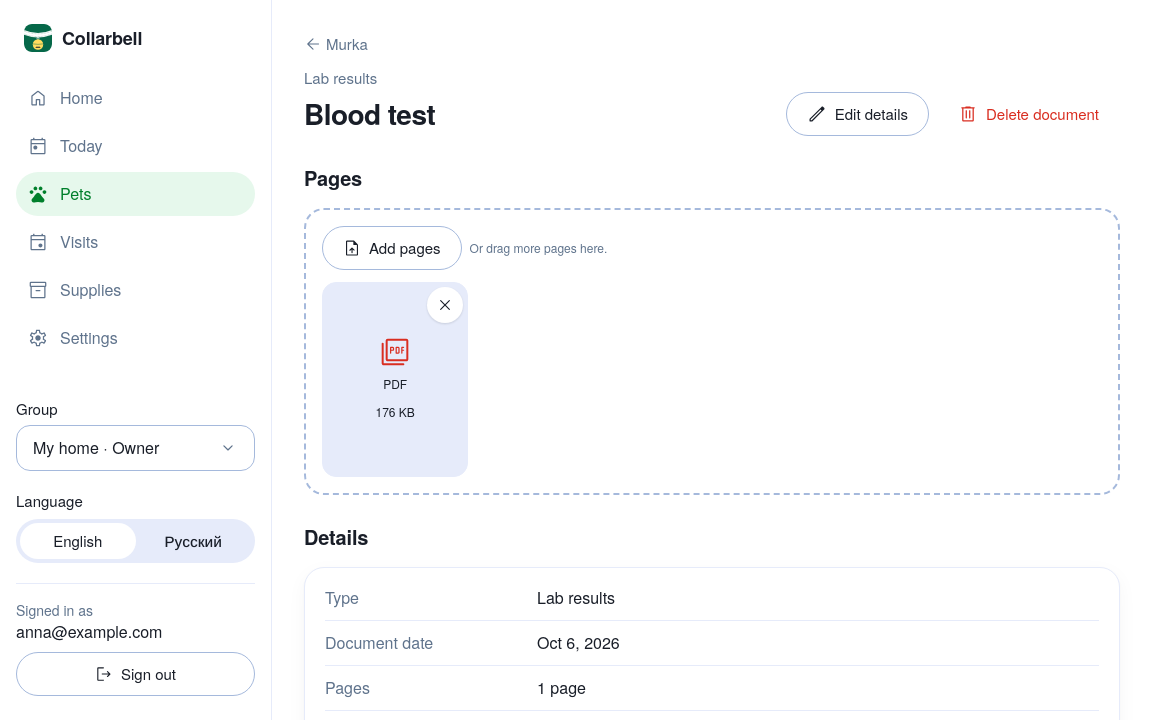
a document's page › deletes a page after asking; the last one takes the document with it
Click the button named "Remove page 1" at (445, 305), box [427,287,463,323]
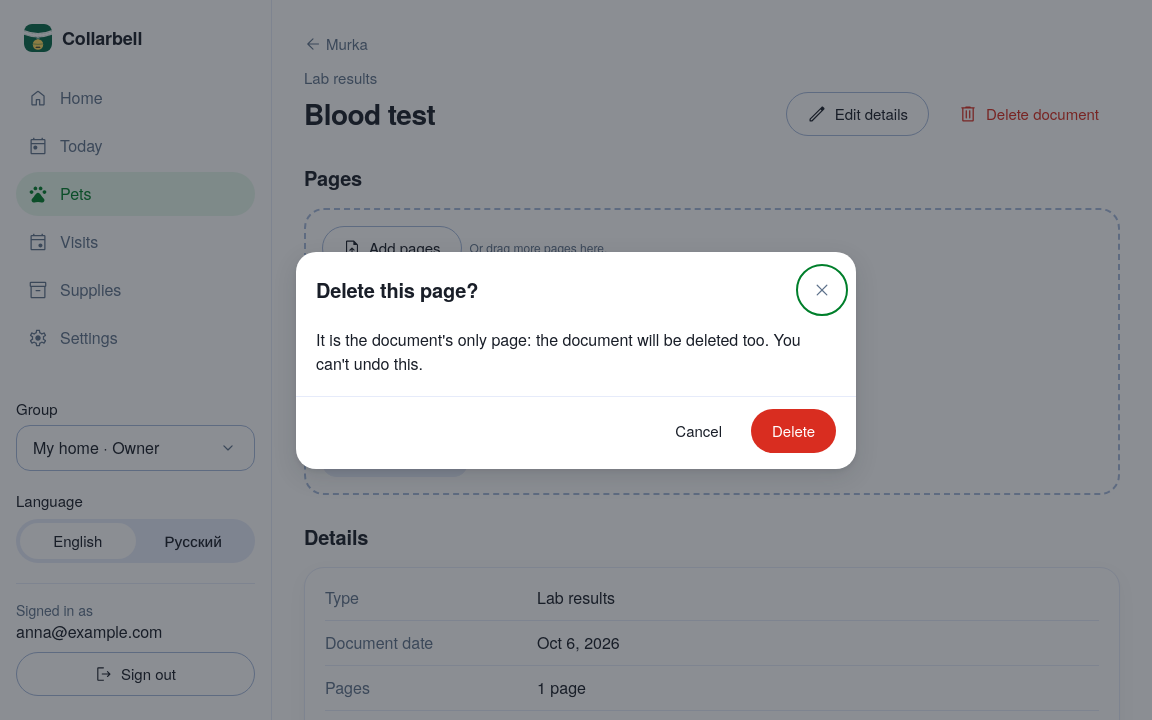
Expected: the text "It is the document's only page: the document will be deleted too" is shown, [316,328,801,374]
Click the button "Delete" at (794, 430), box [751,408,836,452]
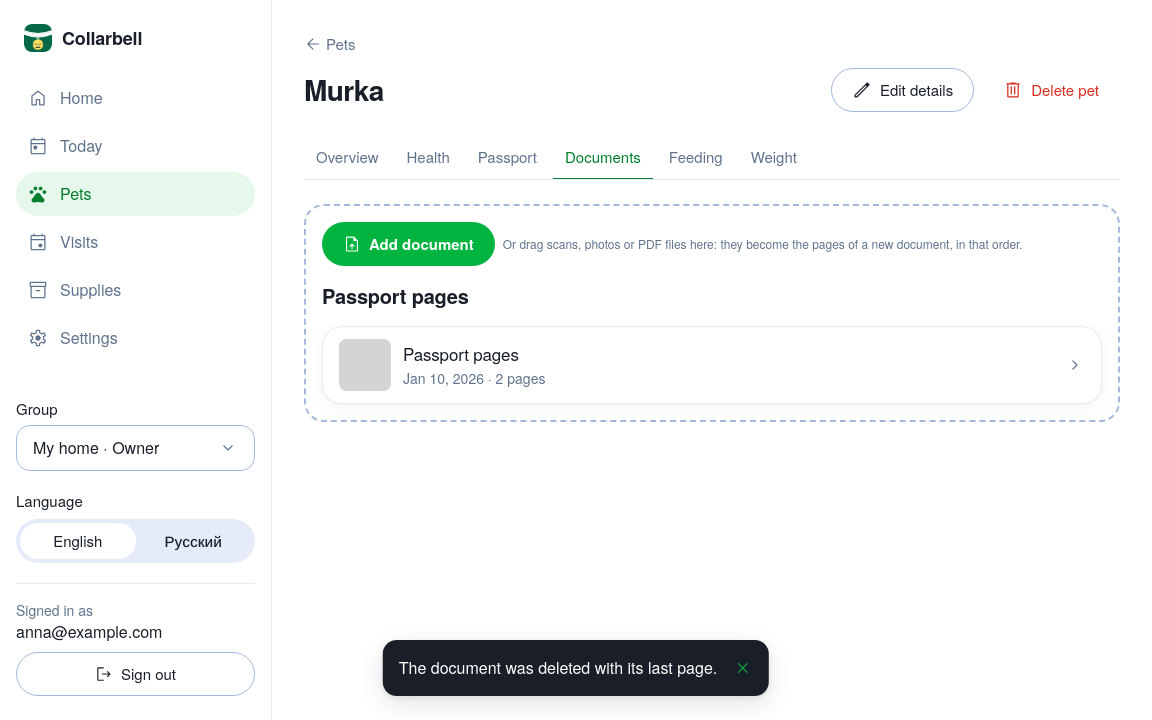
Expected: the text "The document was deleted with its last page." is shown, [399,656,717,680]
Expected: the text "Lab results" is gone
